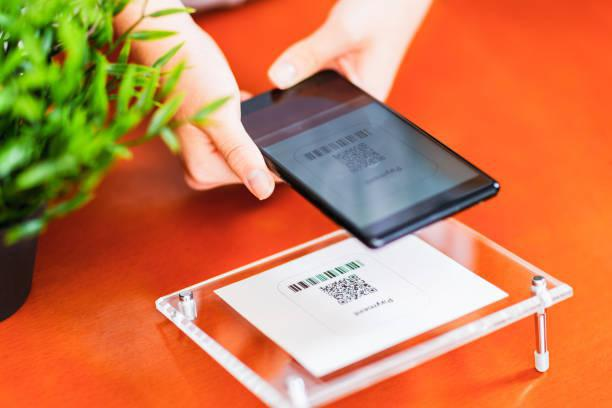Finder pattern: (336, 297, 349, 308), (347, 272, 360, 282), (366, 286, 379, 296)
